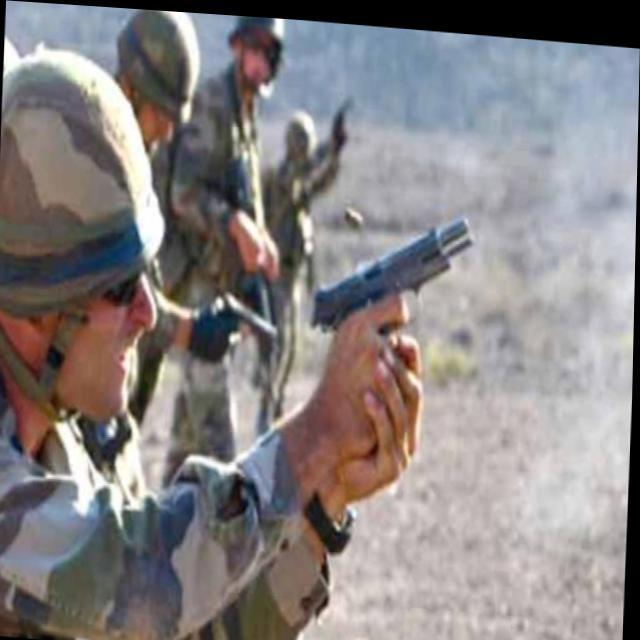weapon: (311, 196, 474, 338)
